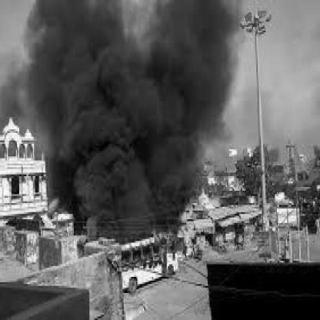Fire: (128, 211, 180, 270)
Smoke: (20, 0, 242, 223)
